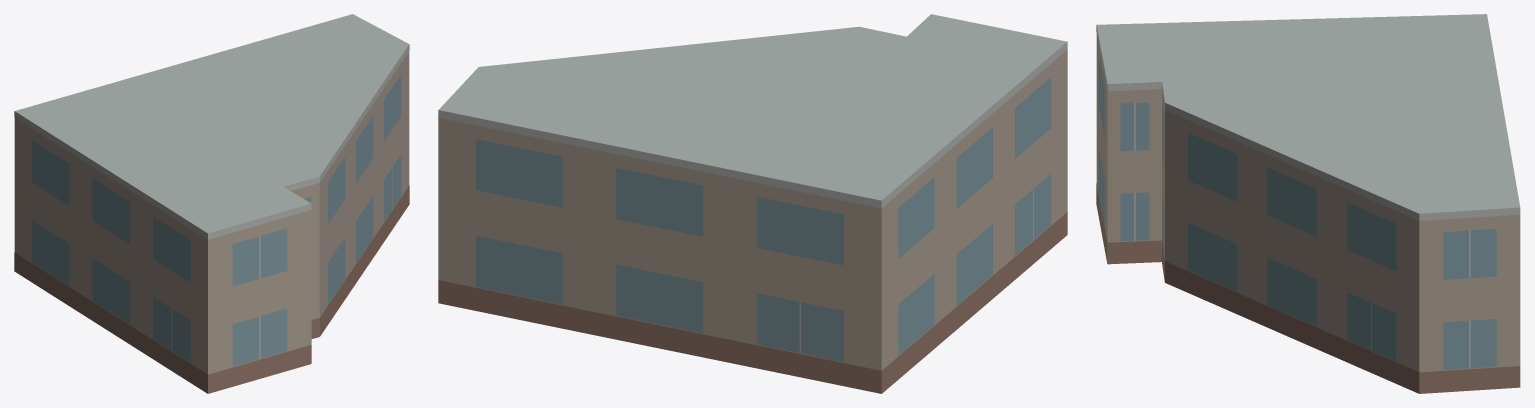
The model's file is survey-upis-32977854.glb.
3 views of the same model, side by side, from view 1: azimuth 30°, elevation 25°; view 2: azimuth 150°, elevation 25°; view 3: azimuth 270°, elevation 25° (orthographic). The views are drawn at different scales.
Visible parts, largest first — view 1: survey-upis-32977854.tmp; view 2: survey-upis-32977854.tmp; view 3: survey-upis-32977854.tmp.
Part boxes in pixels (x1=…): survey-upis-32977854.tmp: x1=14, y1=14, x2=409, y2=393; survey-upis-32977854.tmp: x1=438, y1=14, x2=1067, y2=393; survey-upis-32977854.tmp: x1=1096, y1=14, x2=1520, y2=393.
Size of the model in its own units: 14.53 by 6.1 by 13.02.
